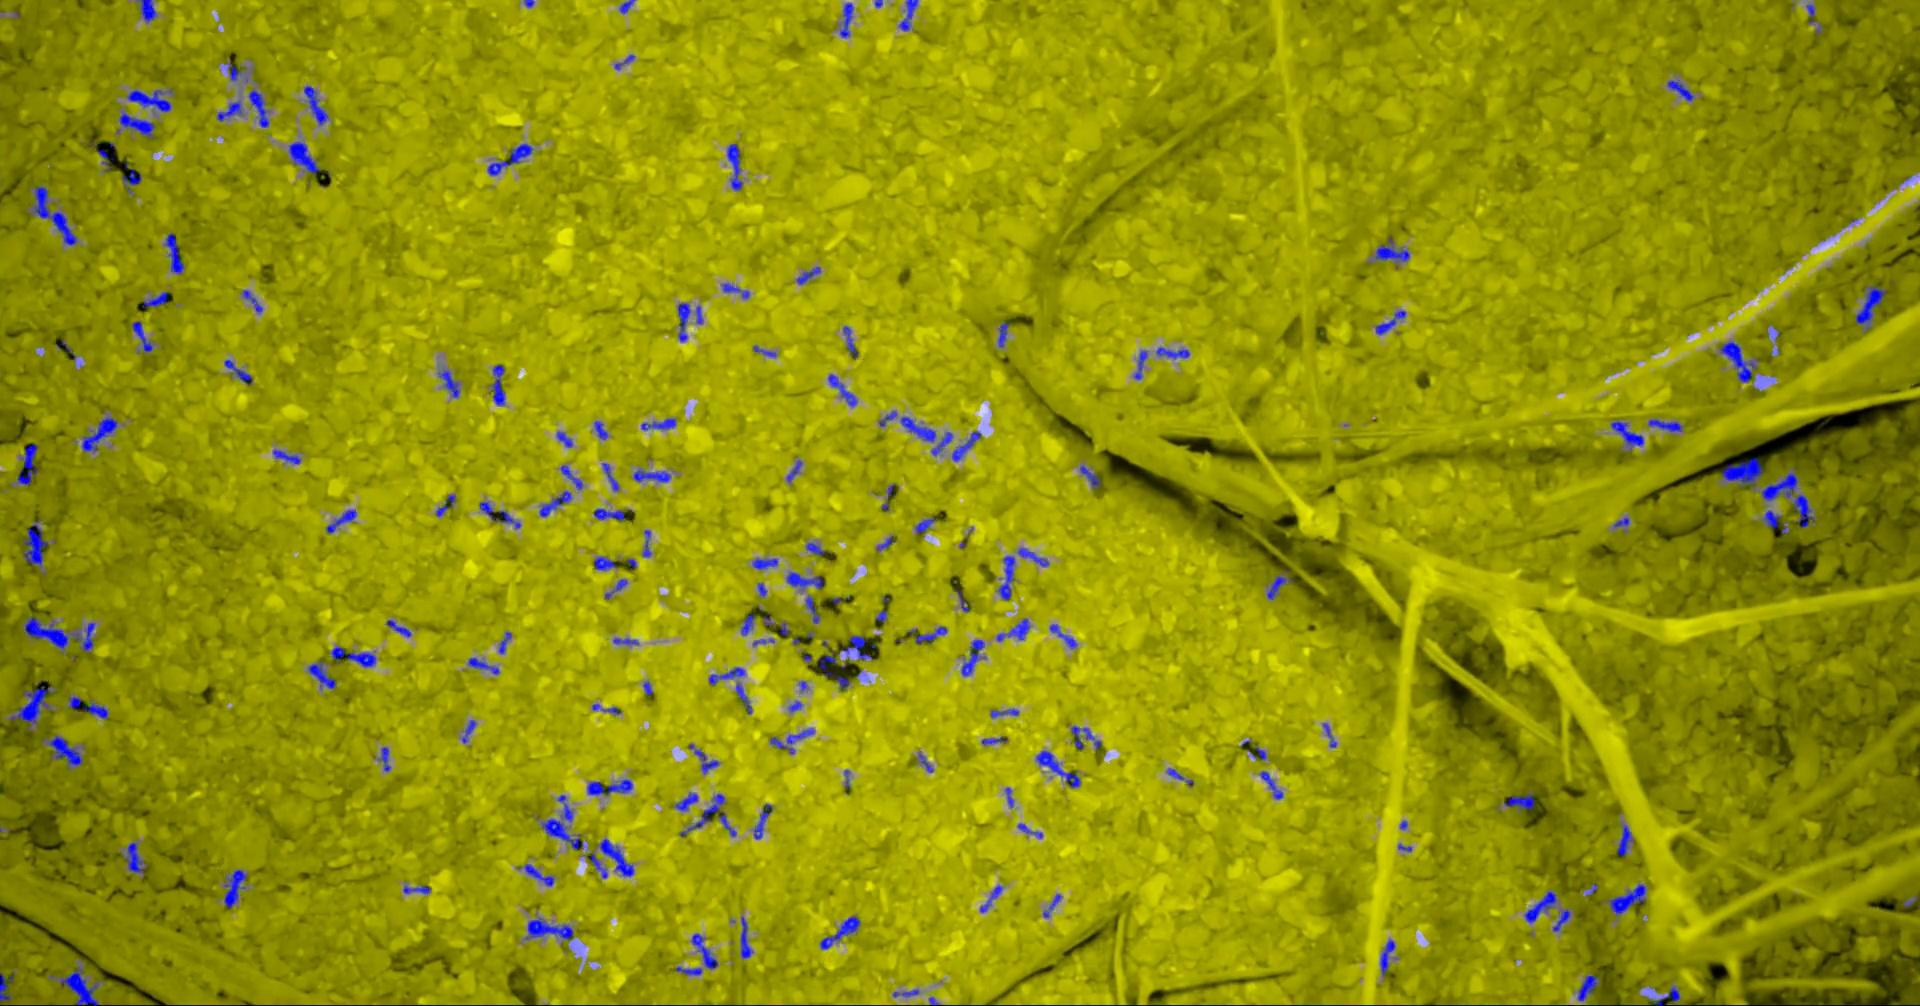ant: (1761, 467, 1815, 527), (30, 185, 76, 245), (679, 793, 737, 836), (24, 616, 94, 650), (9, 680, 55, 730), (1035, 749, 1079, 788), (60, 967, 99, 1005), (1719, 340, 1756, 381), (488, 144, 532, 175), (41, 735, 83, 768), (1855, 285, 1886, 329), (819, 915, 858, 949), (540, 818, 582, 848), (599, 838, 632, 876), (1721, 457, 1763, 486), (81, 417, 117, 451), (818, 650, 850, 688), (1608, 883, 1646, 915), (479, 500, 521, 528), (524, 916, 573, 940), (23, 521, 48, 567), (770, 728, 814, 753), (1524, 890, 1556, 922), (288, 141, 319, 173), (827, 373, 856, 406), (126, 89, 170, 111), (303, 85, 328, 124), (951, 431, 982, 461), (687, 743, 717, 774), (1610, 420, 1643, 448), (223, 869, 248, 907), (119, 112, 154, 138), (691, 934, 717, 968), (961, 639, 985, 676), (516, 862, 552, 887), (331, 647, 375, 667), (1375, 235, 1410, 260), (17, 443, 37, 485), (538, 490, 571, 516), (900, 417, 935, 441), (69, 696, 107, 718), (307, 661, 337, 688), (1266, 569, 1293, 600), (585, 779, 632, 795), (248, 89, 268, 127), (841, 635, 872, 659), (996, 619, 1029, 641), (325, 509, 356, 533), (1070, 725, 1101, 749), (998, 555, 1015, 600), (165, 232, 183, 273), (726, 144, 742, 191), (1375, 310, 1404, 334), (753, 803, 772, 840), (1049, 622, 1076, 648), (223, 359, 251, 384), (1260, 770, 1283, 799), (131, 320, 152, 351), (123, 842, 143, 873), (979, 885, 1002, 912), (786, 572, 823, 588), (1016, 547, 1048, 567), (709, 667, 744, 683), (898, 0, 917, 30), (490, 365, 504, 405), (438, 370, 458, 398), (1651, 984, 1679, 1005), (467, 657, 499, 674), (1379, 939, 1394, 976), (1667, 79, 1693, 100), (560, 464, 582, 489), (1577, 974, 1599, 1000), (842, 325, 858, 357), (931, 431, 952, 455), (216, 100, 241, 121), (121, 168, 141, 193), (916, 626, 946, 643), (1503, 793, 1534, 809), (677, 302, 690, 340), (632, 469, 670, 481), (602, 462, 618, 492), (839, 3, 853, 37), (740, 916, 752, 958), (604, 578, 626, 600), (241, 290, 262, 312), (735, 682, 750, 713), (1617, 826, 1632, 856), (721, 282, 749, 298), (796, 265, 820, 285), (1043, 893, 1062, 917), (1647, 418, 1683, 431), (386, 619, 411, 636), (589, 852, 607, 878), (136, 0, 156, 22), (1079, 465, 1100, 486), (641, 418, 676, 431), (272, 448, 300, 464), (1156, 345, 1189, 358), (674, 793, 697, 810), (1552, 908, 1570, 931), (1133, 351, 1147, 379), (805, 594, 819, 622), (142, 291, 168, 306), (436, 495, 455, 516), (1017, 823, 1043, 838), (97, 149, 113, 171), (786, 459, 803, 481), (593, 508, 626, 520), (557, 794, 571, 821), (914, 516, 935, 533), (1322, 721, 1336, 747), (0, 972, 13, 1000), (805, 542, 829, 556), (461, 719, 475, 743), (997, 321, 1010, 347), (377, 746, 390, 771), (227, 58, 241, 80), (955, 589, 969, 611), (740, 614, 754, 635), (1764, 511, 1780, 528), (877, 410, 897, 426), (593, 556, 616, 569), (752, 558, 777, 569), (498, 631, 510, 653), (918, 753, 932, 772), (556, 431, 571, 447), (876, 535, 893, 550), (643, 528, 651, 556), (990, 708, 1018, 716), (1248, 746, 1266, 760), (752, 345, 776, 356), (594, 420, 607, 439), (674, 967, 701, 976), (982, 735, 1007, 744), (403, 885, 430, 893), (618, 0, 635, 13), (613, 636, 637, 644), (891, 989, 918, 996), (1806, 4, 1815, 22)
